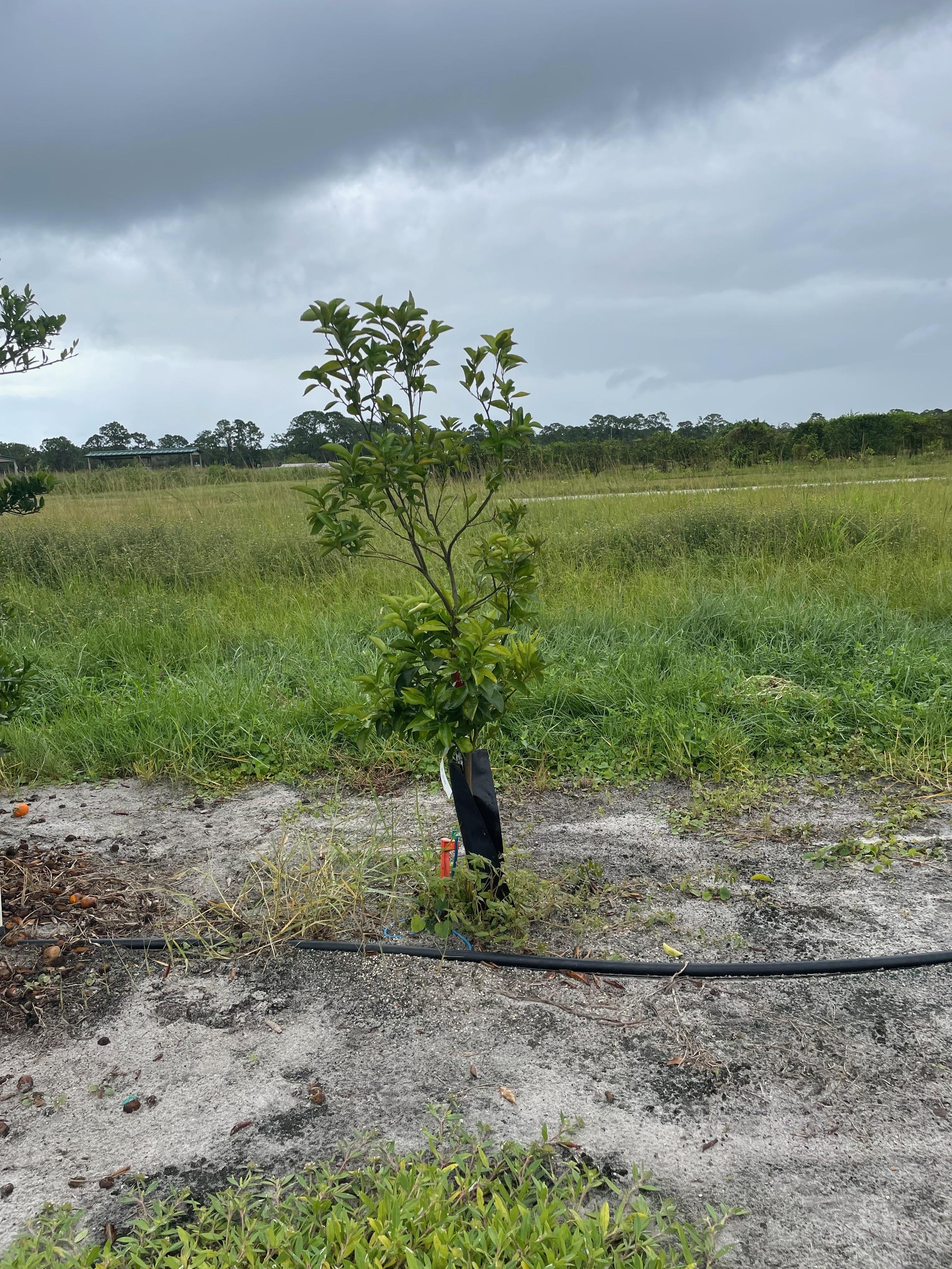fruit_on_tree: (11, 801, 31, 818), (79, 893, 98, 909), (68, 890, 86, 906)
